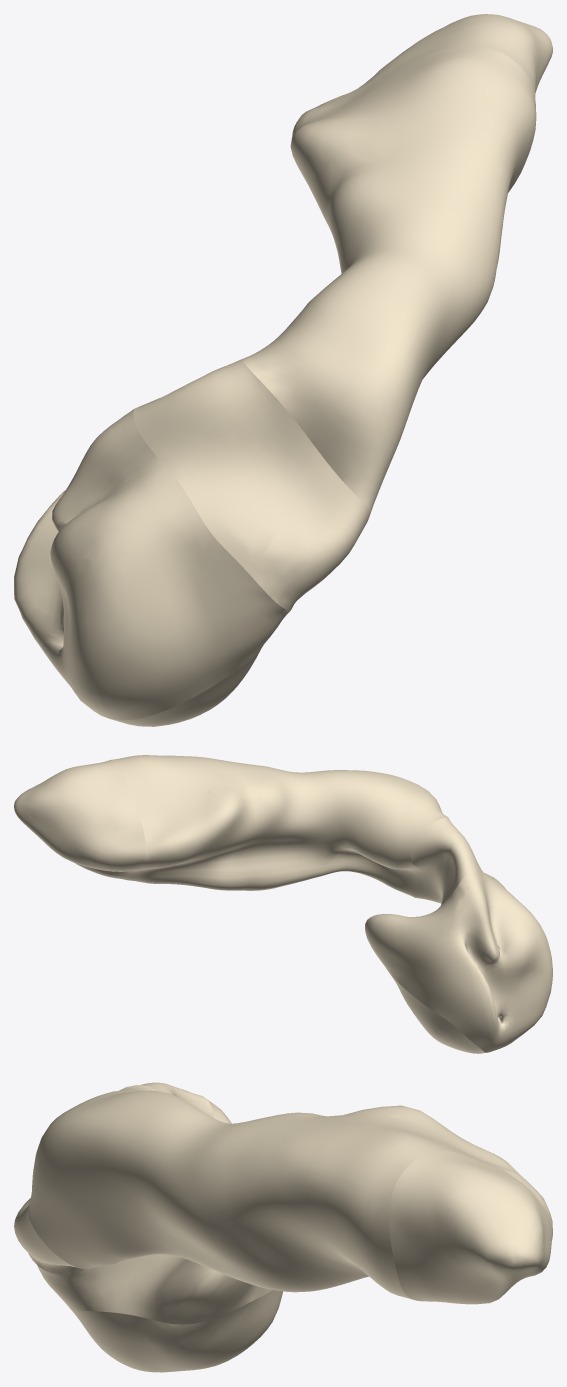
File: VH_M_Pancreas.glb
The picture shows the model from 3 angles, top to bottom: view 1: azimuth 30°, elevation 25°; view 2: azimuth 150°, elevation 25°; view 3: azimuth 270°, elevation 25°; orthographic projection. The views are drawn at different scales.
Visible parts, largest first — view 1: VH_M_body_of_pancreas, VH_M_head_of_pancreas, VH_M_neck_of_pancreas, VH_F_tail_of_pancreas, VH_F_uncinate_process_of_the_pancreas; view 2: VH_M_body_of_pancreas, VH_M_head_of_pancreas, VH_F_tail_of_pancreas, VH_M_neck_of_pancreas, VH_F_uncinate_process_of_the_pancreas; view 3: VH_M_body_of_pancreas, VH_F_tail_of_pancreas, VH_M_head_of_pancreas, VH_F_uncinate_process_of_the_pancreas, VH_M_neck_of_pancreas.
Part boxes in pixels (x1=…): VH_M_body_of_pancreas: x1=241, y1=46, x2=536, y2=516; VH_M_head_of_pancreas: x1=14, y1=409, x2=290, y2=720; VH_M_neck_of_pancreas: x1=133, y1=359, x2=369, y2=610; VH_F_tail_of_pancreas: x1=334, y1=14, x2=552, y2=98; VH_F_uncinate_process_of_the_pancreas: x1=111, y1=646, x2=262, y2=726; VH_M_body_of_pancreas: x1=112, y1=755, x2=447, y2=897; VH_M_head_of_pancreas: x1=365, y1=875, x2=552, y2=1052; VH_F_tail_of_pancreas: x1=14, y1=759, x2=145, y2=879; VH_M_neck_of_pancreas: x1=411, y1=817, x2=502, y2=905; VH_F_uncinate_process_of_the_pancreas: x1=392, y1=977, x2=485, y2=1053; VH_M_body_of_pancreas: x1=28, y1=1085, x2=520, y2=1299; VH_F_tail_of_pancreas: x1=389, y1=1151, x2=552, y2=1304; VH_M_head_of_pancreas: x1=37, y1=1096, x2=271, y2=1324; VH_F_uncinate_process_of_the_pancreas: x1=70, y1=1290, x2=282, y2=1372; VH_M_neck_of_pancreas: x1=14, y1=1082, x2=213, y2=1274.
Bounding box in the file's own units: 0.1115 × 0.072 × 0.0836.
